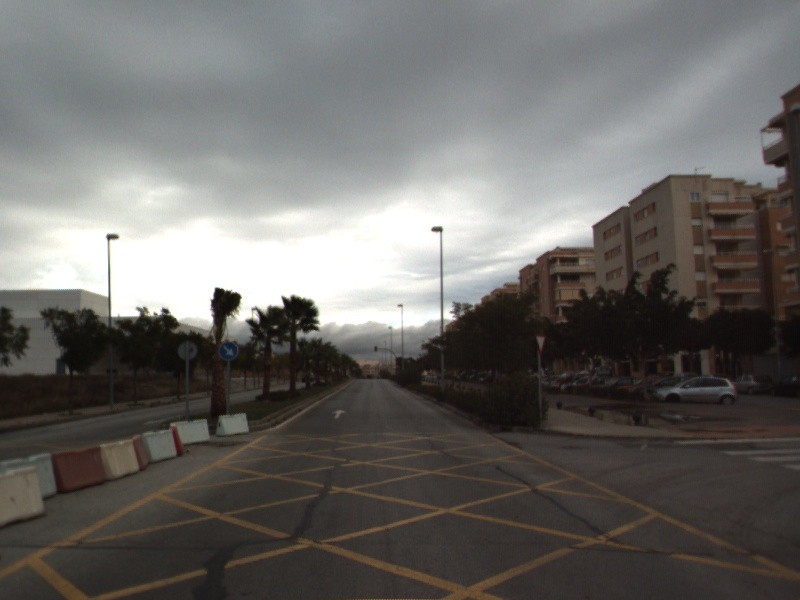STRAIGHT: (330, 407, 349, 421)
